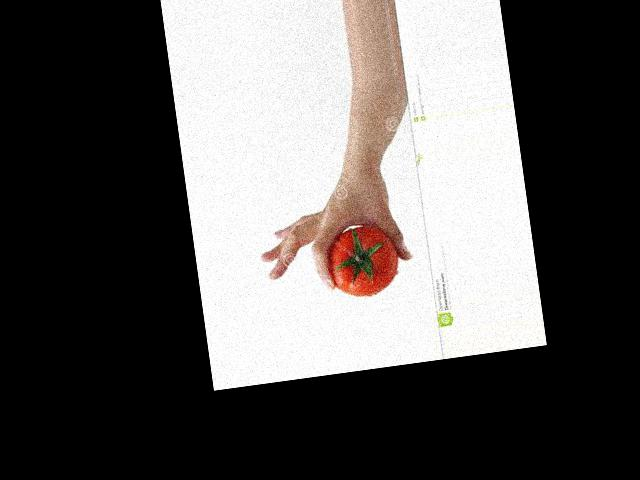tomato: (323, 222, 402, 301)
